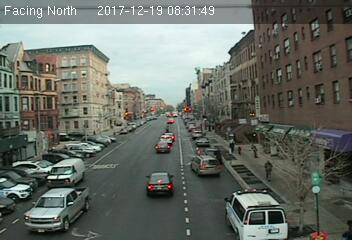car: (20, 187, 91, 232), (188, 154, 221, 176), (145, 171, 174, 196), (154, 140, 170, 154), (195, 137, 208, 146)
pedestrian: (263, 155, 275, 184)
police: (223, 186, 289, 240)
truck: (44, 157, 85, 189)
